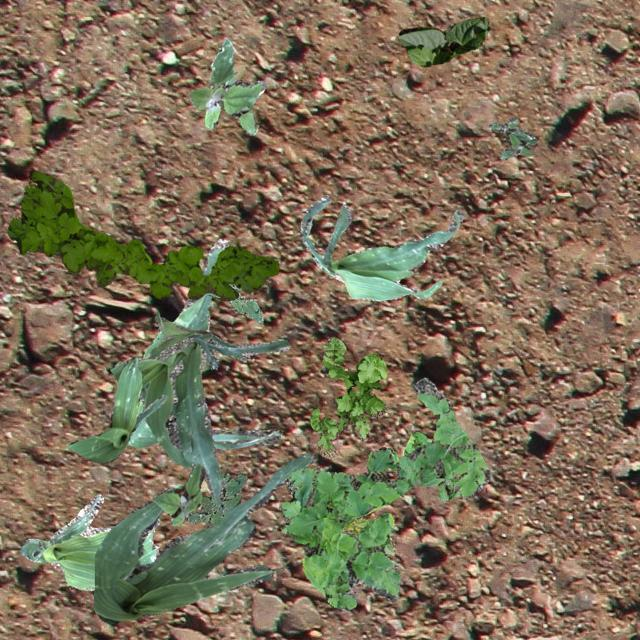crop: (93, 450, 314, 622), (110, 312, 288, 506), (126, 238, 280, 448), (299, 193, 462, 300), (20, 494, 158, 590), (66, 357, 166, 462), (396, 15, 489, 66), (340, 516, 394, 556)
weed: (280, 376, 488, 610), (8, 170, 278, 300), (310, 336, 388, 458), (188, 36, 264, 134), (187, 472, 246, 526), (152, 464, 204, 524), (205, 282, 262, 322), (488, 116, 536, 158), (386, 431, 430, 468)
